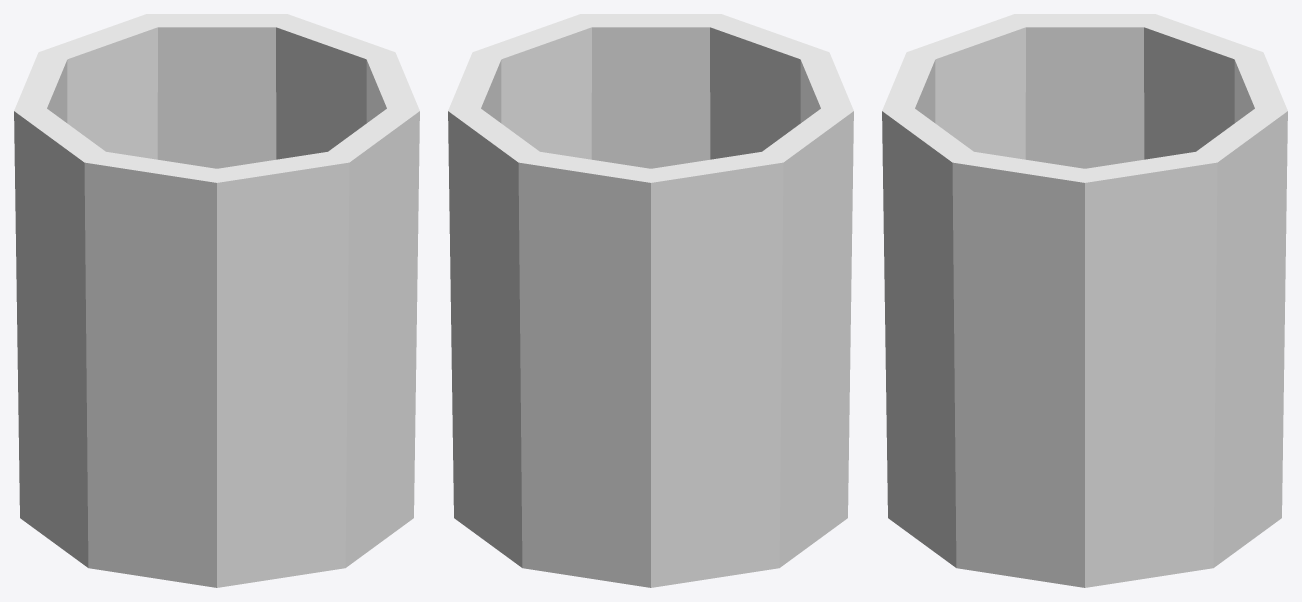
Rendered from SM_cup_01.fbx.
3 renders of one model, left to right at view 1: azimuth 30°, elevation 25°; view 2: azimuth 150°, elevation 25°; view 3: azimuth 270°, elevation 25°, orthographic.
Visible parts, largest first — view 1: Line002; view 2: Line002; view 3: Line002.
Boxes of the visible parts, box(x1,y1,x2,y2) form: Line002: box(14, 14, 419, 587); Line002: box(448, 14, 853, 587); Line002: box(882, 14, 1287, 587).
Size of the model in its own units: 5.53 by 6.22 by 5.61.
